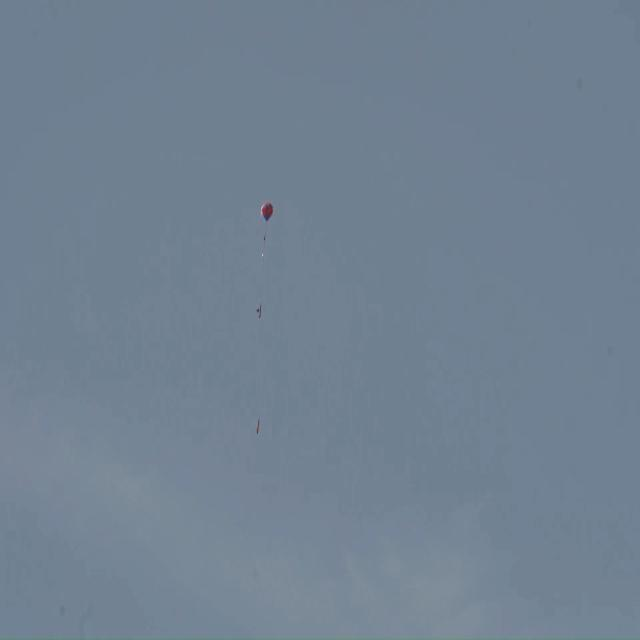Rocket: (255, 418, 260, 435)
